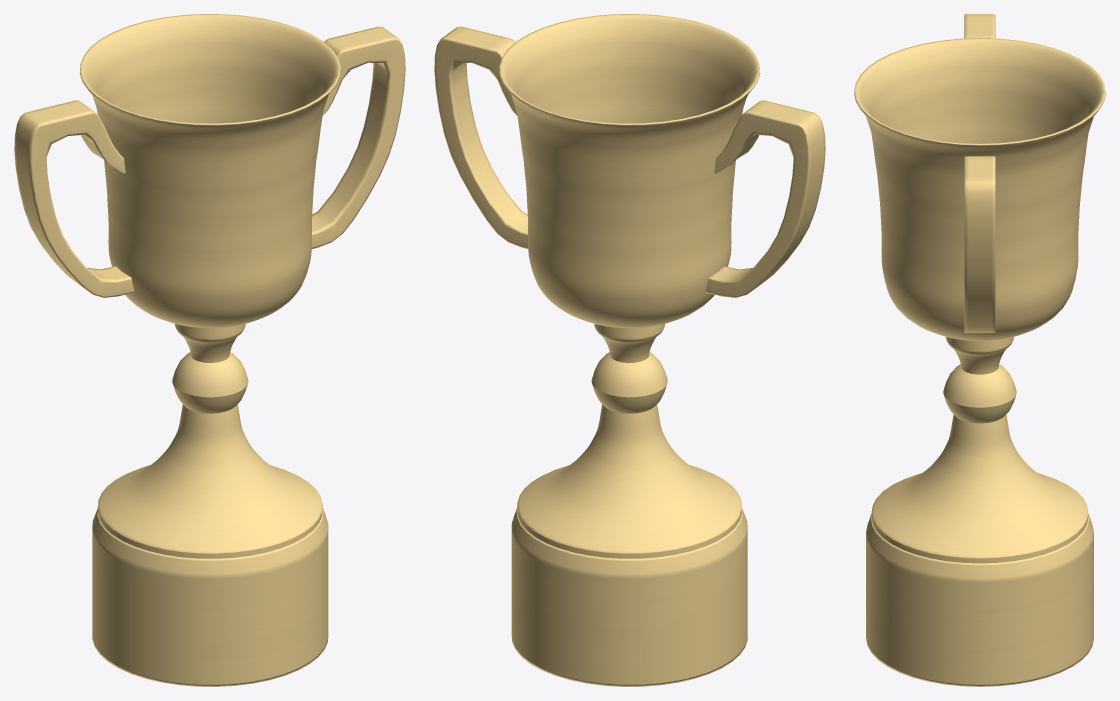
The model's file is trophy.dae.
The picture shows the model from 3 angles, left to right: view 1: azimuth 30°, elevation 25°; view 2: azimuth 150°, elevation 25°; view 3: azimuth 270°, elevation 25°; orthographic projection. The views are drawn at different scales.
Parts seen in each view (by area): view 1: trophy; view 2: trophy; view 3: trophy.
Boxes of the visible parts, box(x1,y1,x2,y2) form: trophy: box(14, 14, 405, 686); trophy: box(434, 14, 825, 686); trophy: box(854, 14, 1105, 686).
Size of the model in its own units: 6.59 by 9.54 by 3.97.
Materials: 1 (1 with a texture image).
